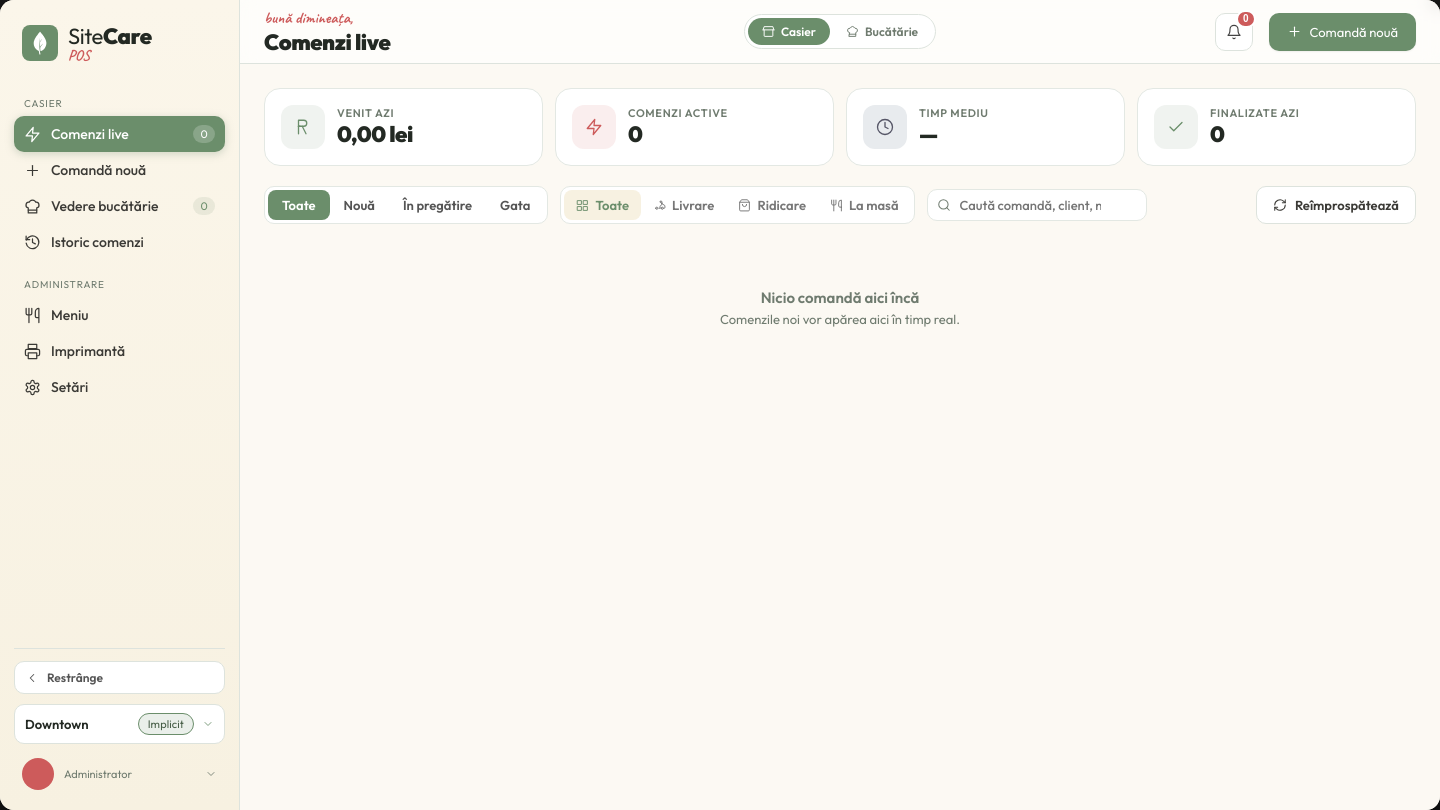
Test: app-branch-switch — end-to-end tracer (SWCH-03/04, SCOPE-04, D-05/D-07/D-08/D-09/D-10/D-11) › a rejected switch releases the overlay immediately and shows the generic failure toast (D-11/D-12/SC3)
Click the element titled "Downtown".
click(120, 724)  # box x1=14 y1=704 x2=225 y2=744
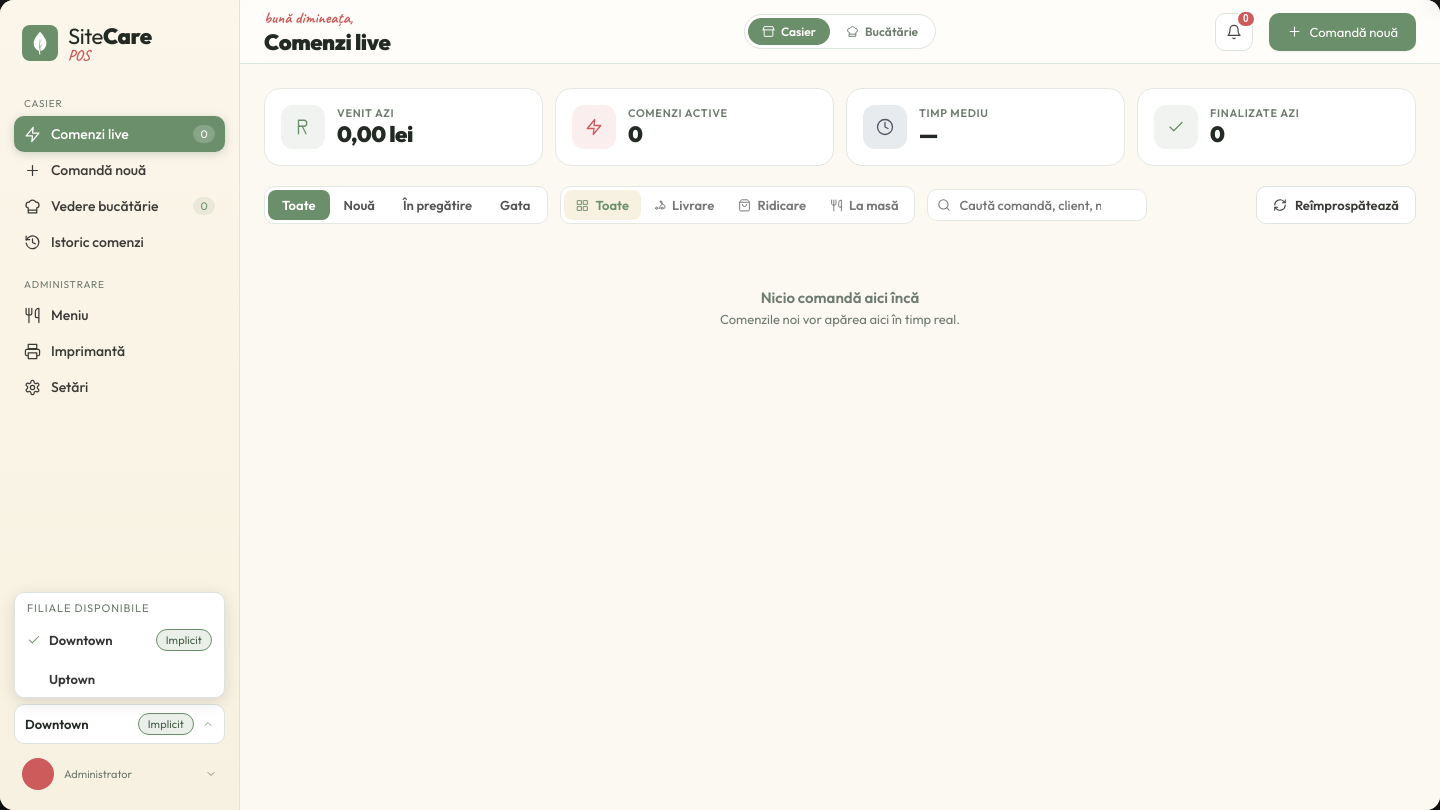
Click the button "Uptown".
click(120, 679)  # box x1=15 y1=661 x2=224 y2=697
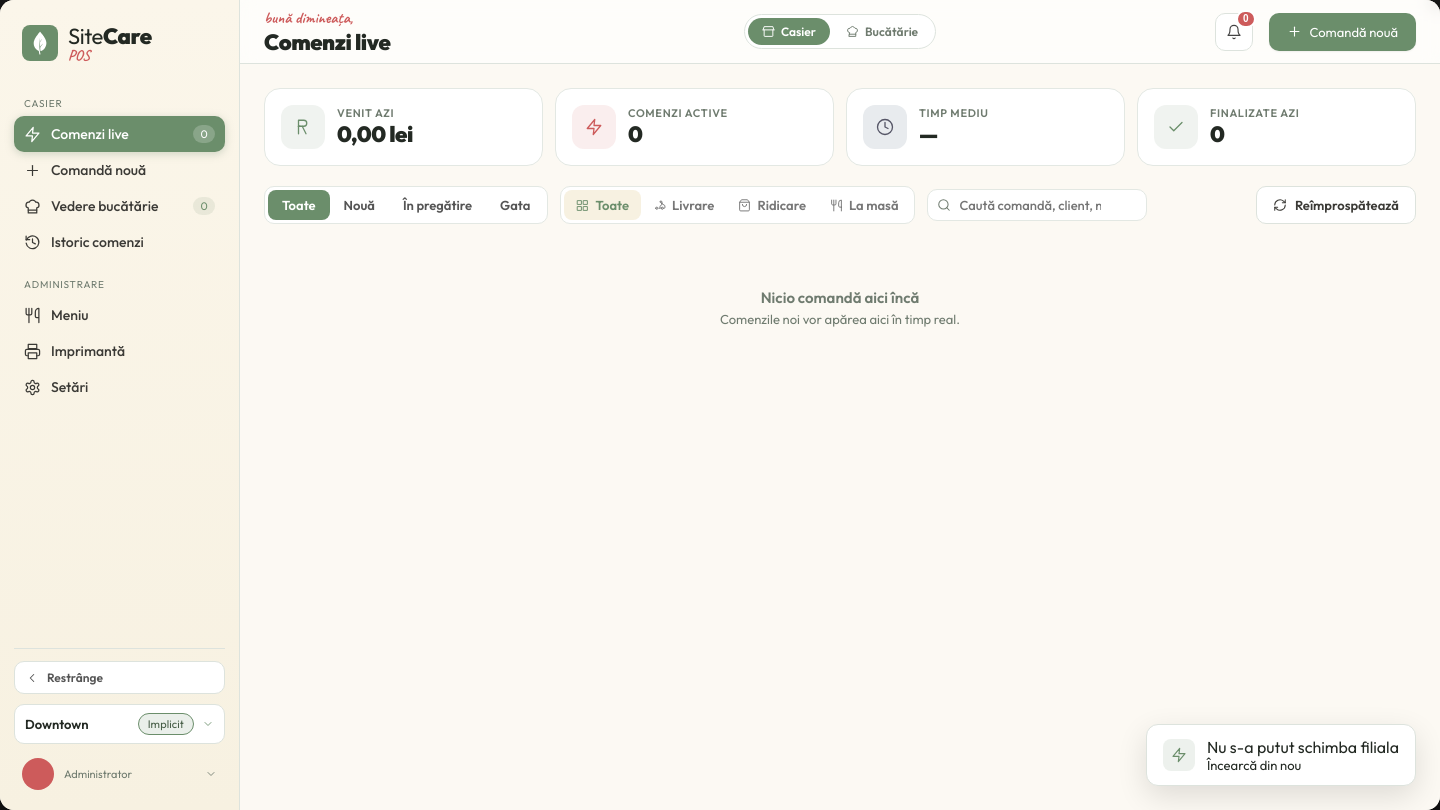
Expected: the text "Nu s-a putut schimba filiala" is shown, x1=1207 y1=737 x2=1399 y2=757
Expected: the text "Încearcă din nou" is shown, x1=1207 y1=757 x2=1301 y2=773
